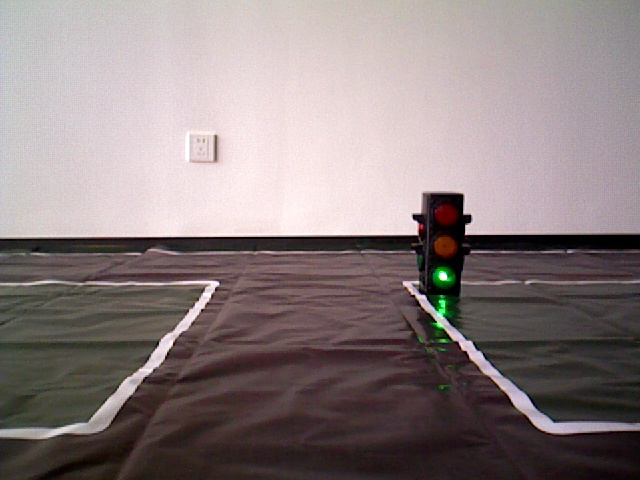green: (423, 200, 460, 289)
